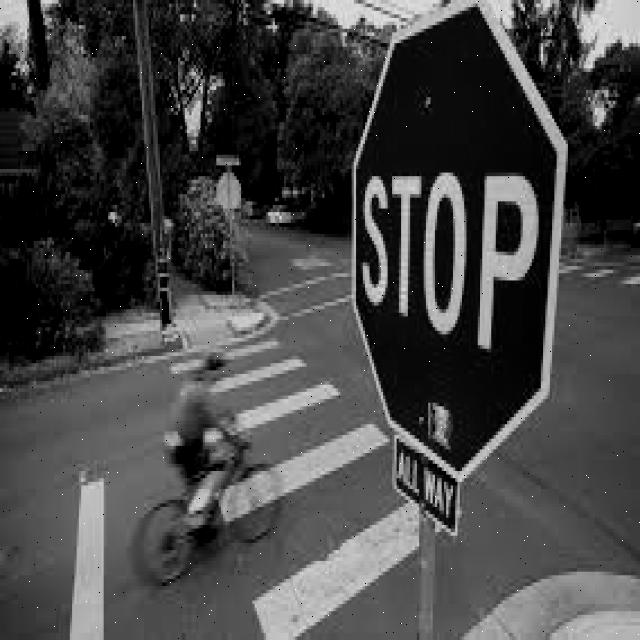stop sign: (355, 2, 565, 539)
